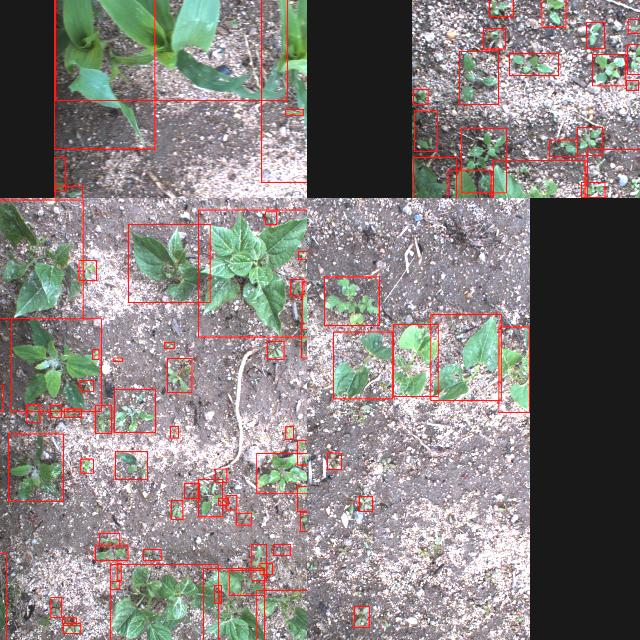crop: (55, 0, 287, 100), (53, 0, 154, 149), (198, 209, 307, 336), (0, 199, 82, 318), (111, 564, 219, 640), (128, 224, 210, 302), (431, 314, 502, 401), (203, 568, 264, 640), (333, 332, 393, 398), (493, 160, 585, 198), (394, 324, 438, 396), (498, 327, 530, 413), (586, 149, 640, 198), (257, 590, 307, 640), (413, 157, 456, 198), (447, 170, 490, 198), (0, 552, 6, 640), (302, 281, 307, 328)
weed: (11, 318, 101, 412), (8, 434, 64, 502), (460, 128, 506, 192), (324, 276, 380, 326), (459, 52, 498, 104), (257, 453, 307, 493), (114, 389, 156, 433), (592, 54, 626, 86), (509, 54, 558, 76), (198, 479, 222, 517), (115, 452, 147, 480), (166, 358, 192, 392), (230, 570, 264, 596), (414, 111, 436, 151), (578, 127, 602, 155), (542, 0, 566, 27), (252, 544, 266, 580), (482, 29, 506, 49), (95, 405, 112, 433), (94, 546, 128, 560), (586, 22, 604, 48), (549, 140, 577, 156), (54, 158, 66, 192), (627, 44, 640, 74), (489, 0, 513, 16), (581, 182, 605, 198), (54, 185, 82, 198), (78, 261, 96, 281), (98, 532, 120, 546), (354, 606, 368, 628), (268, 341, 284, 359), (26, 405, 40, 423), (327, 452, 341, 470), (297, 440, 307, 465), (297, 486, 307, 511), (171, 500, 183, 520), (412, 90, 428, 104), (184, 484, 200, 498), (359, 496, 373, 512), (50, 597, 61, 617), (273, 544, 291, 556), (301, 324, 307, 358), (80, 459, 94, 473), (236, 513, 252, 525), (292, 280, 304, 296), (627, 19, 640, 33), (143, 550, 161, 560), (64, 408, 82, 418), (63, 623, 81, 633), (49, 404, 61, 418), (215, 469, 227, 483), (79, 381, 93, 392), (226, 496, 237, 510), (214, 585, 222, 603), (300, 512, 307, 531), (626, 80, 638, 90), (266, 212, 276, 224), (260, 564, 272, 574), (62, 618, 76, 626), (286, 426, 294, 439), (170, 426, 178, 438), (110, 581, 120, 589), (218, 498, 228, 506), (285, 110, 303, 114), (298, 251, 307, 259), (117, 564, 121, 580), (164, 342, 174, 348), (92, 350, 98, 360), (114, 358, 122, 362)
